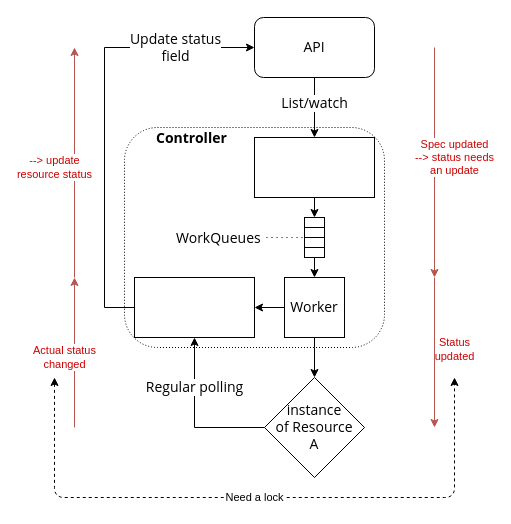
The diagram is 511 pixels wide and 524 high, and some of its shapes have lost their labels. The shapes that lost their labels are listed below. From the top down, each one's box as (x1, y1, x2, y2) in pixels, then its label:
(254, 136, 374, 198): Reflector for resource A
(134, 276, 254, 338): Observer for resource A
